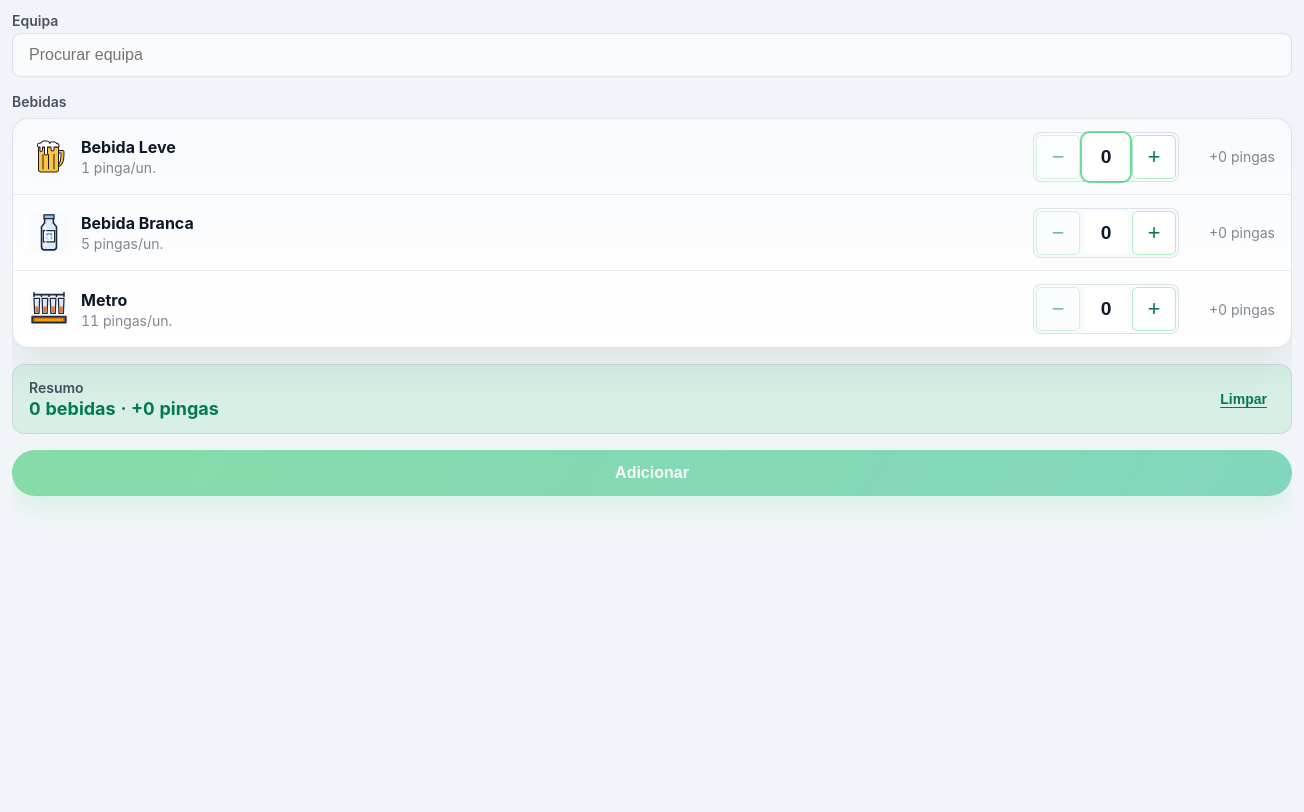
Test: AddPingasPanel drinks workflow › supports keyboard quantity changes and renders service errors
Press Arrowup Arrowup Arrowdown
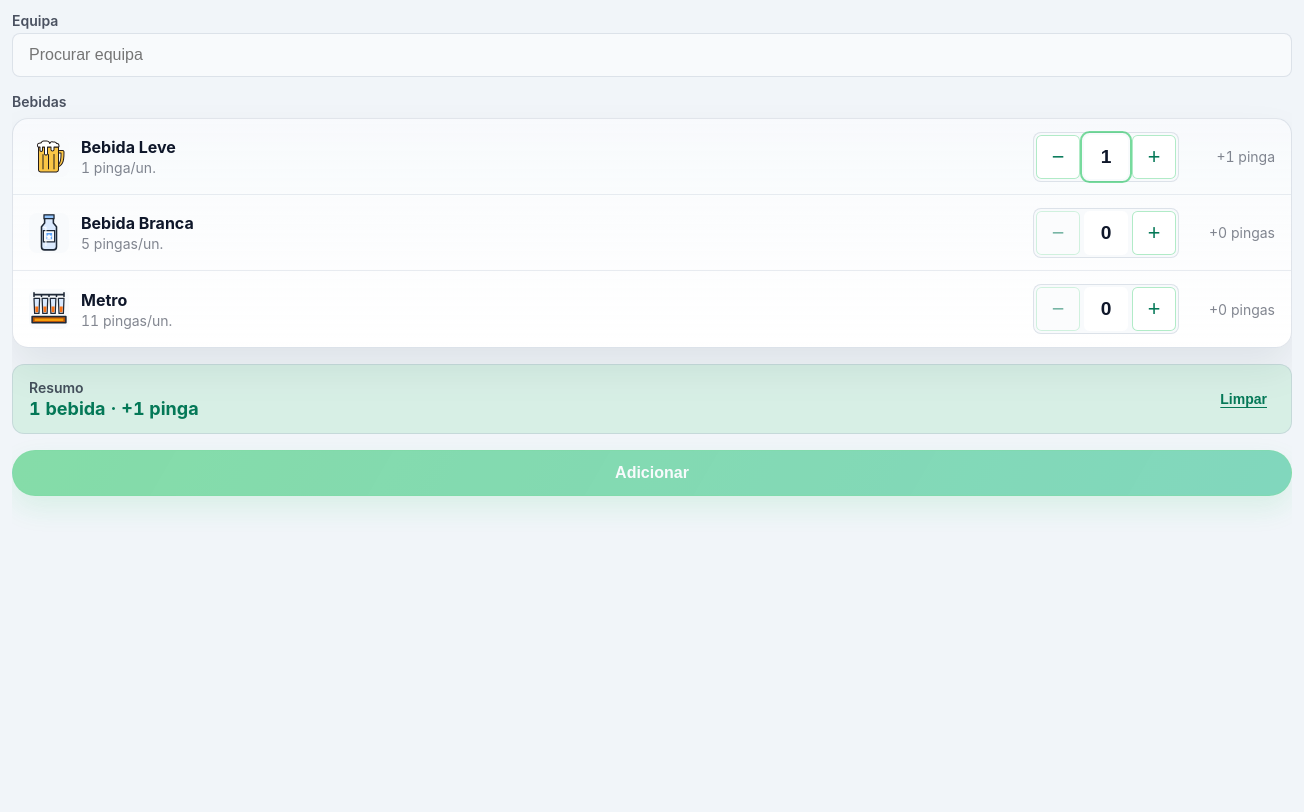
Result: the number field named "Quantidade de Bebida Leve" in the row of "Bebida Leve" holds "1" at top-left (1084, 134), bottom-right (1128, 178)
In the dropdown named "Procurar equipa": (652, 55) top-left (12, 33), bottom-right (1292, 77), type "Alfa"
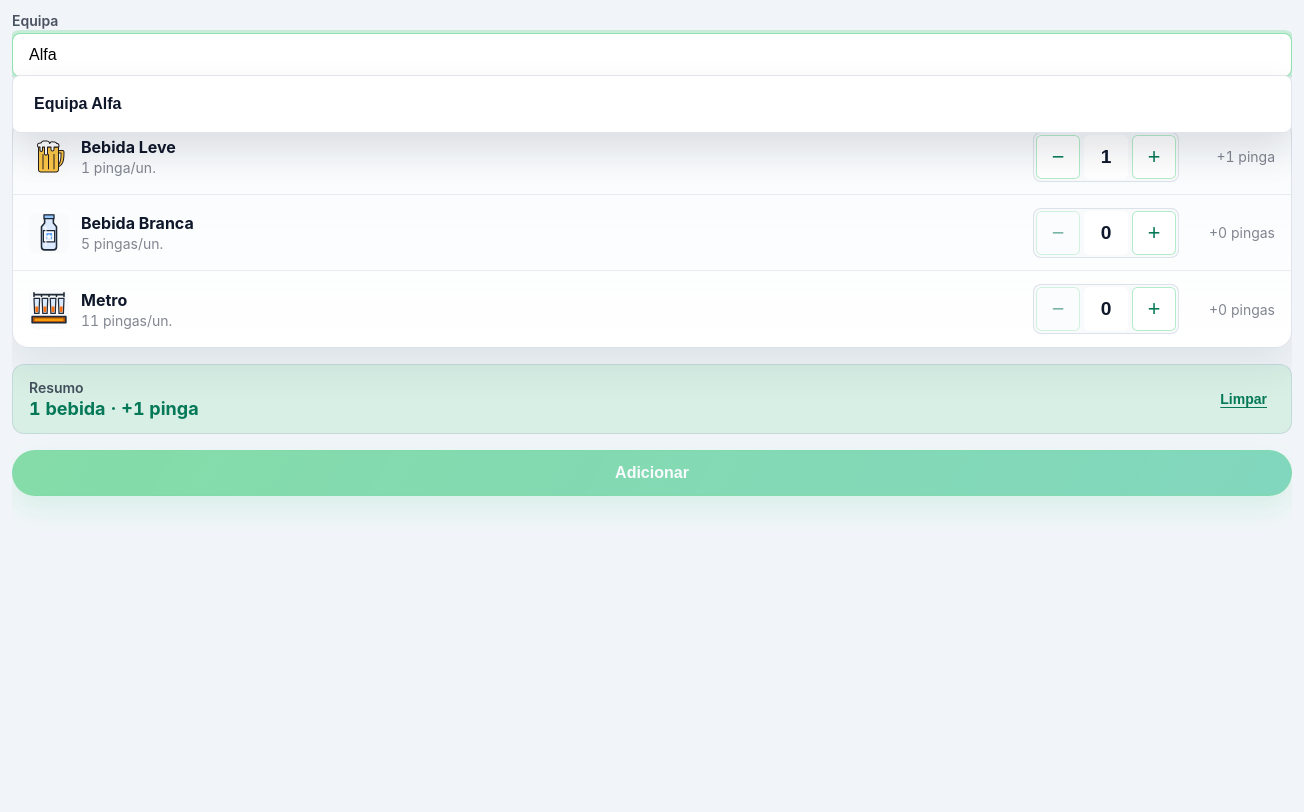
Click the option "Equipa Alfa": (78, 104) top-left (17, 80), bottom-right (1287, 128)
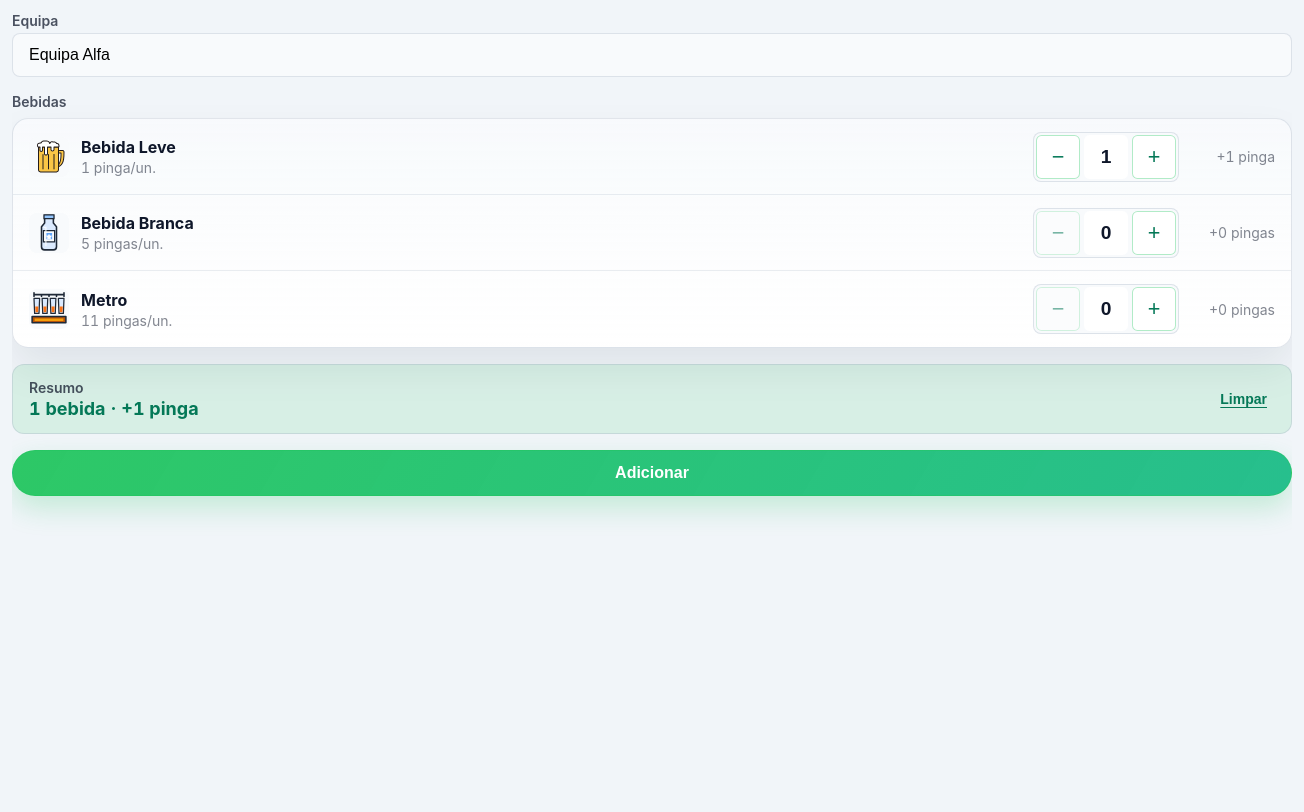
Click the button "Adicionar": (652, 473) top-left (12, 450), bottom-right (1292, 496)
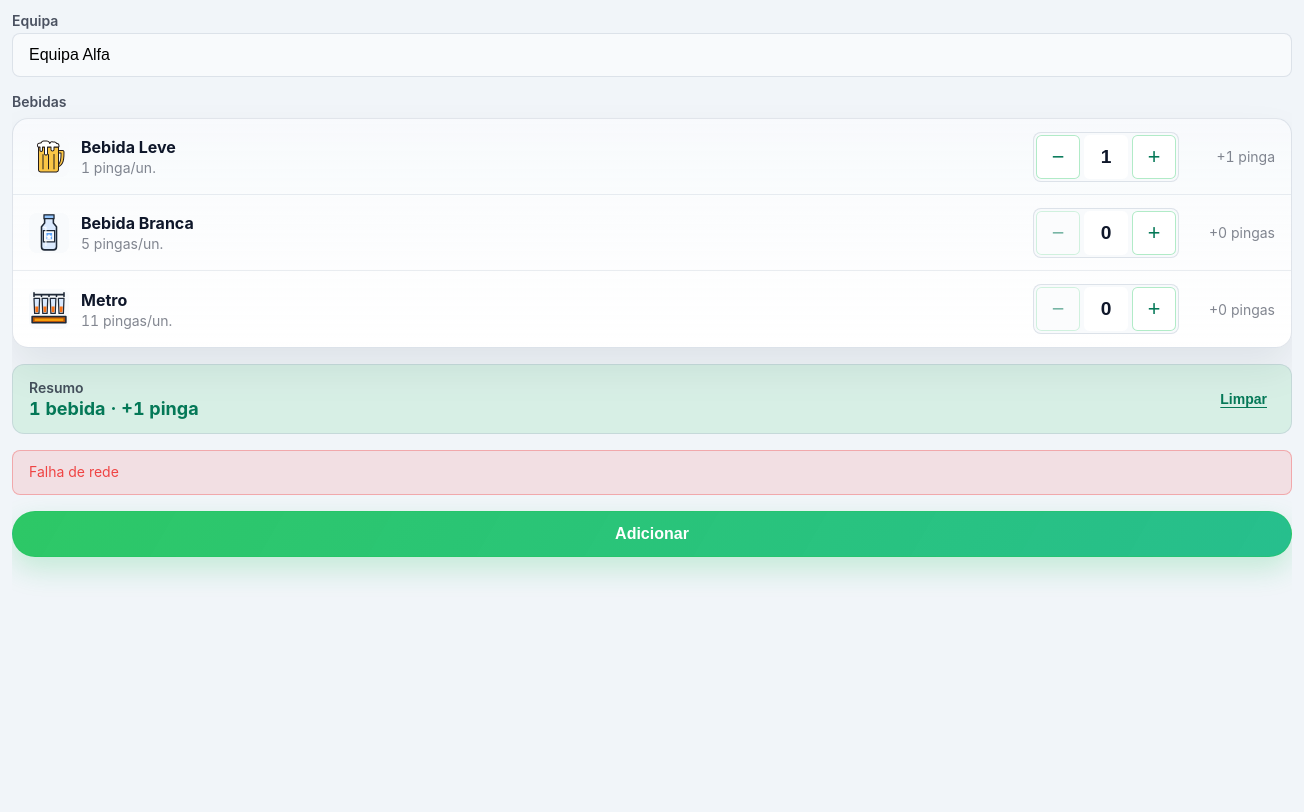
Result: the button "Adicionar" is enabled at top-left (12, 511), bottom-right (1292, 557)
Result: the message reads "Falha de rede" at top-left (29, 463), bottom-right (119, 480)
